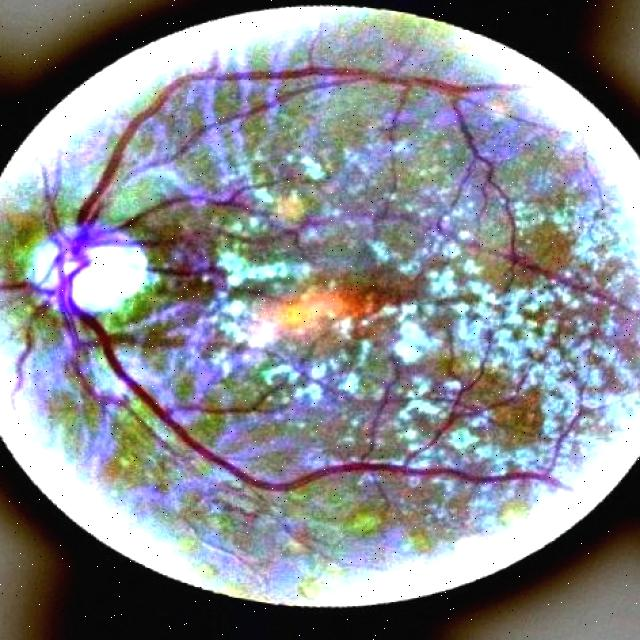Macula: (259, 285, 401, 339)
Nerves: (0, 66, 626, 494)
Optic Disk: (26, 225, 155, 319)
